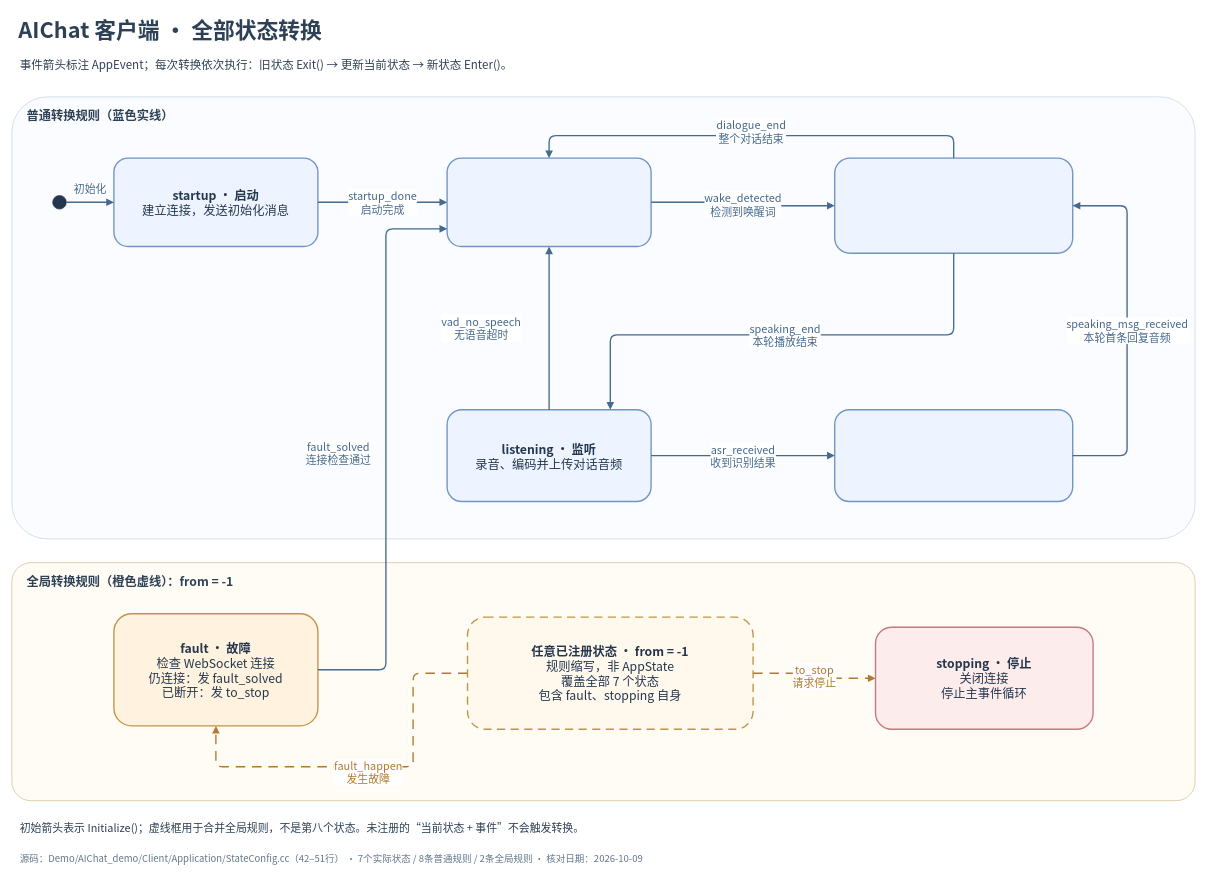
The diagram is 1208 pixels wide and 879 high, and some of its shapes have lost their labels. The shapes that lost their labels are listed below. From the top down, each one's box as (x1, y1, x2, y2) in pixels, then its label:
(446, 157, 651, 247): idle · 空闲 录音，检测唤醒词
(834, 157, 1073, 254): speaking · 播放 播放本地唤醒提示音 或服务端回复音频
(834, 409, 1073, 502): thinking · 等待回复 等待服务端返回回复音频
